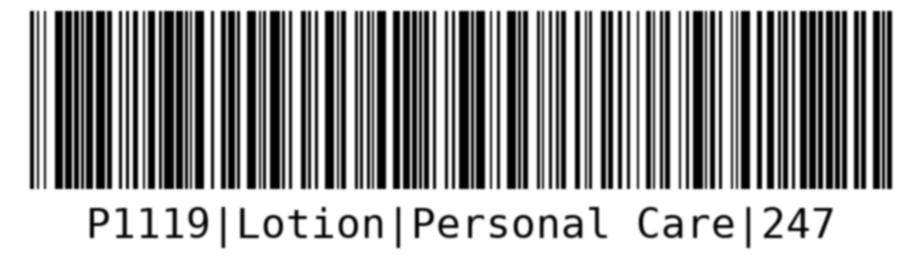milk: (24, 3, 899, 258)
